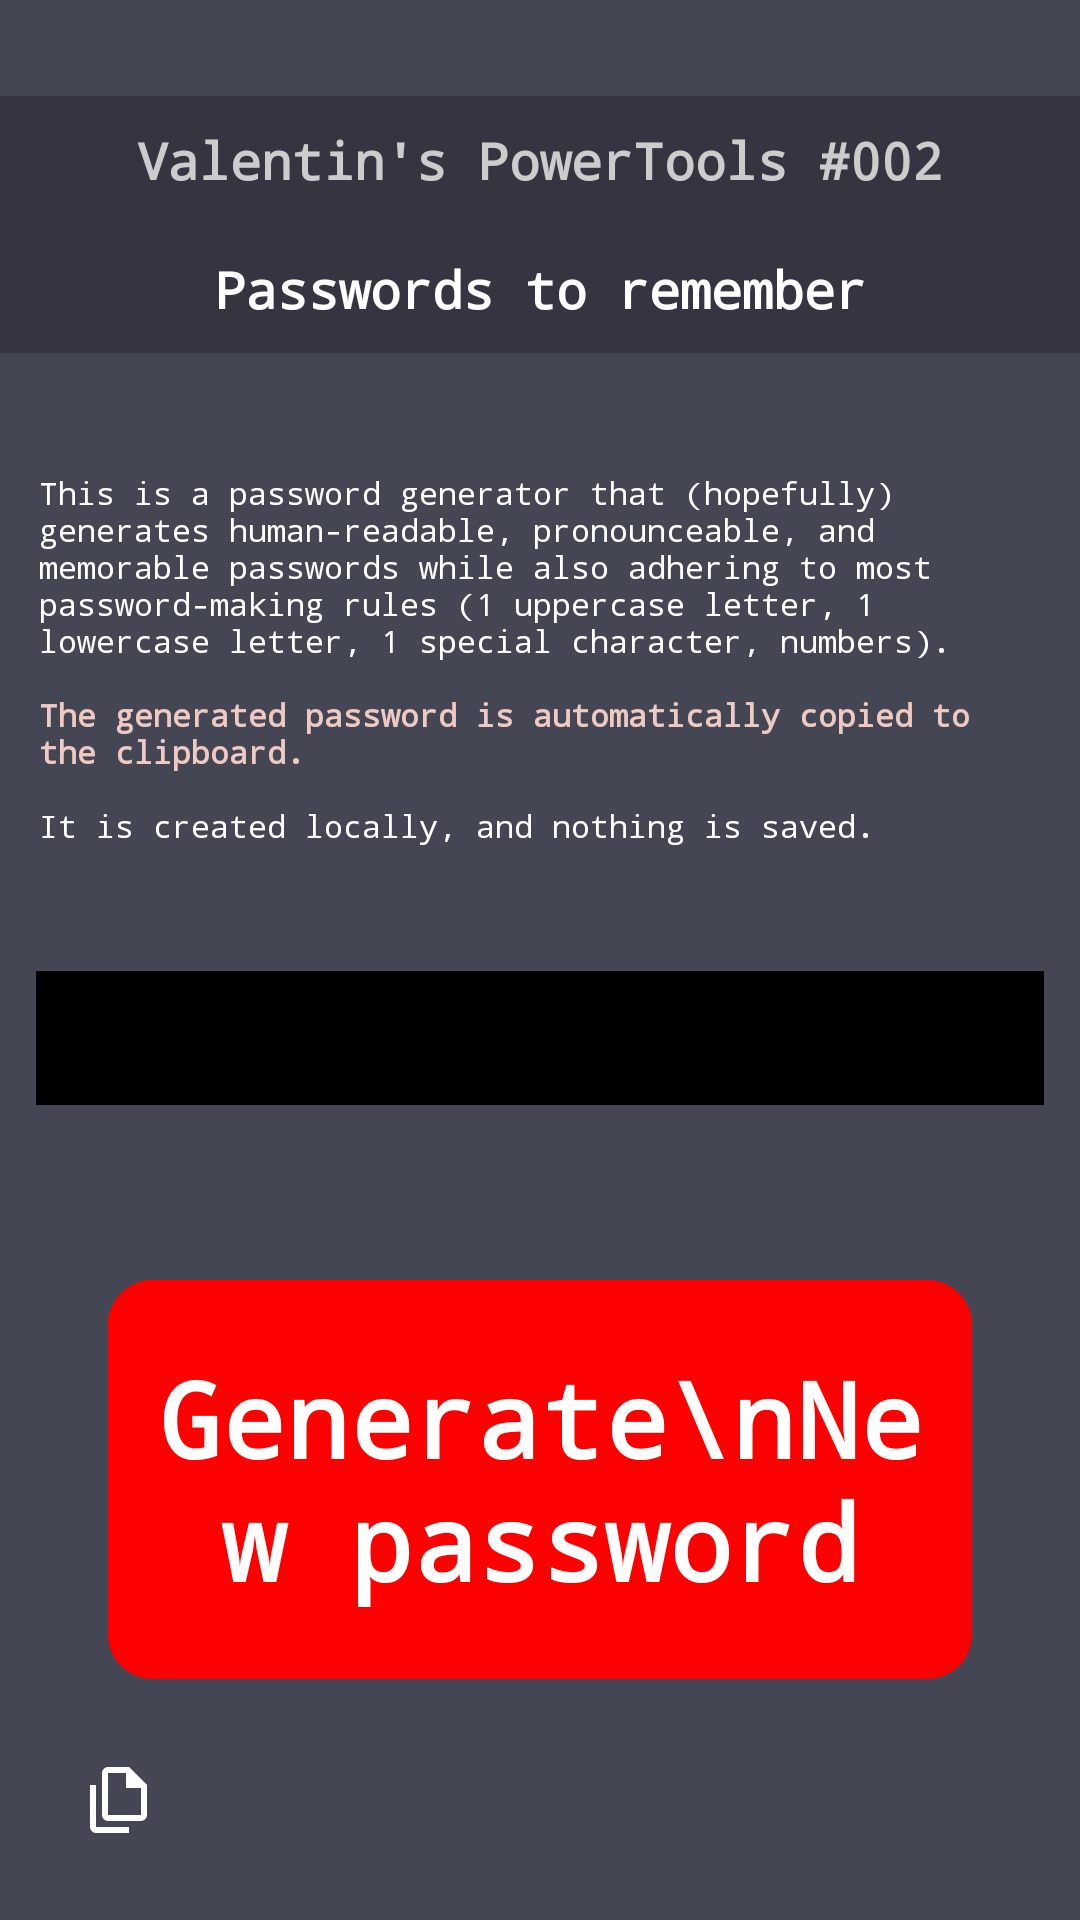

Icons on this 1080*1920 Android screen, each with its box as {"left": x1, "top": y1, "right": x2, "bottom": y2}:
autocopy on: {"left": 90, "top": 1767, "right": 147, "bottom": 1833}
